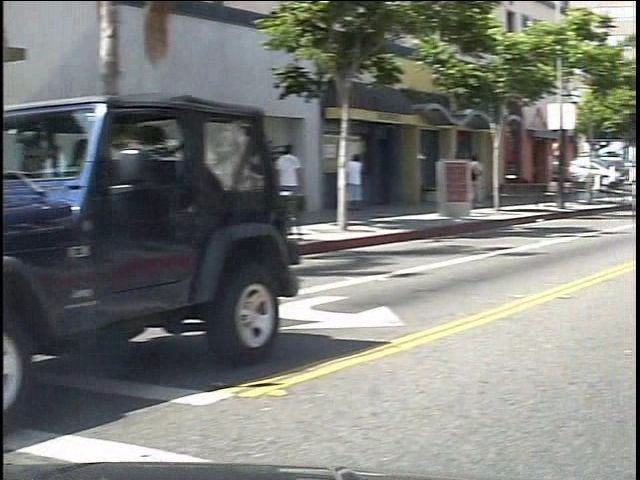person: (291, 141, 325, 235), (359, 142, 383, 224)
